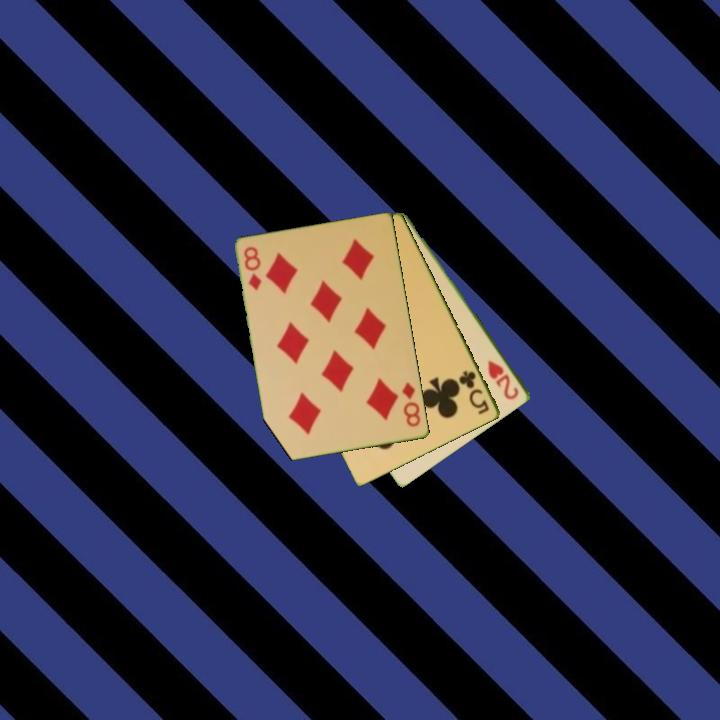2h: (484, 356, 522, 403)
5c: (456, 367, 492, 418)
8d: (399, 379, 424, 430), (241, 243, 265, 293)
